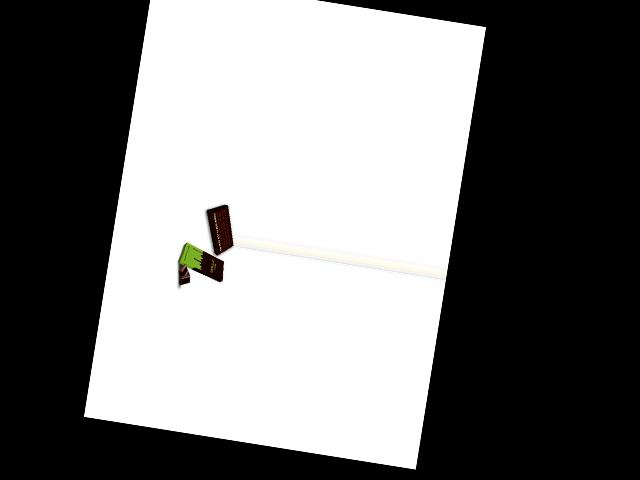chocolate: (175, 243, 227, 279)
